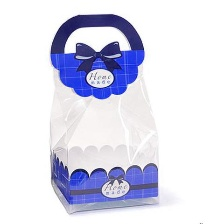snack: (41, 8, 165, 219)
